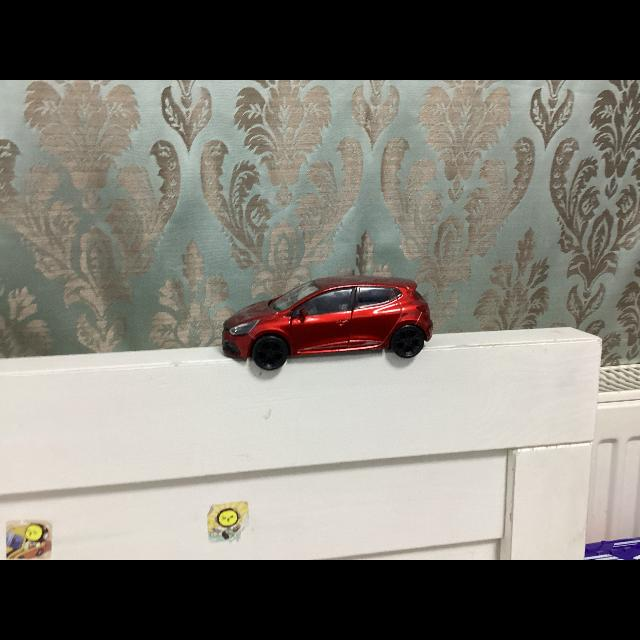Dogru_Jant: (256, 339, 284, 366), (394, 328, 422, 354)
